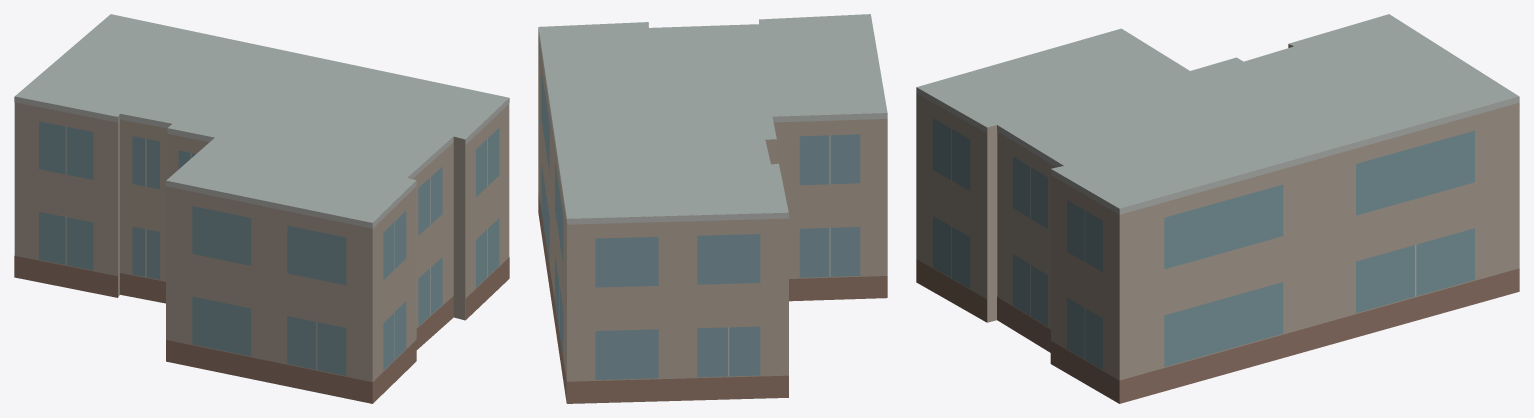
The model's file is survey-upis-32977745.glb.
3 renders of one model, left to right at view 1: azimuth 30°, elevation 25°; view 2: azimuth 150°, elevation 25°; view 3: azimuth 270°, elevation 25°, orthographic. The views are drawn at different scales.
Visible parts, largest first — view 1: survey-upis-32977745.tmp; view 2: survey-upis-32977745.tmp; view 3: survey-upis-32977745.tmp.
Part boxes in pixels (box(x1,y1,x2,y2)): survey-upis-32977745.tmp: box(14, 14, 509, 403); survey-upis-32977745.tmp: box(538, 14, 887, 403); survey-upis-32977745.tmp: box(916, 14, 1519, 403).
Size of the model in its own units: 16.5 by 7.71 by 21.6.
